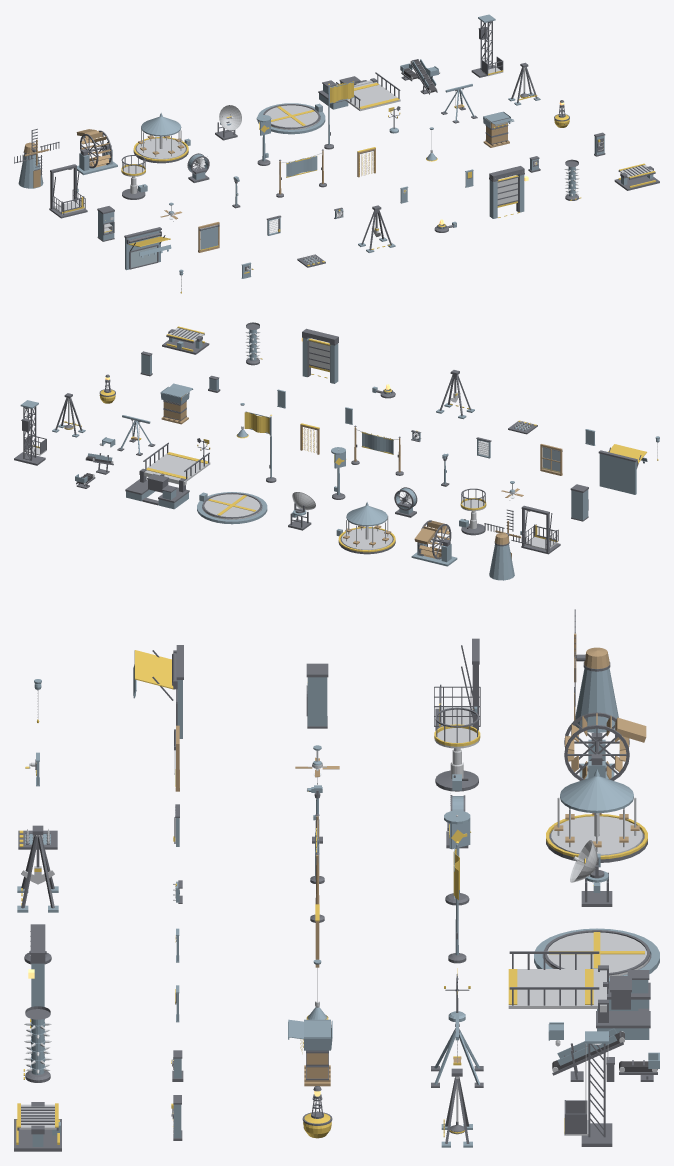
The model's file is animated-mechanisms-kit-fixtures-and-motion-yard-0fb9c9a4__24662.glb.
3 renders of one model, top to bottom at view 1: azimuth 30°, elevation 25°; view 2: azimuth 150°, elevation 25°; view 3: azimuth 270°, elevation 25°, orthographic. The views are drawn at different scales.
Visible parts, largest first — view 1: 002-carousel-platform/deck/steel, 004-turntable/deck/steel, 005-bascule-deck/leaf/steel, 024-awning-unfurl/0, 002-carousel-platform/deck/paint, 008-cargo-lift-with-gate/0, 037-falling-gate/0, 007-counterweight-platform/0, 000-windmill-sail/0, 004-turntable/0, 001-water-wheel/wheel/timber, 001-water-wheel/wheel/iron (+6 smaller); view 2: 024-awning-unfurl/0, 005-bascule-deck/leaf/steel, 004-turntable/deck/steel, 002-carousel-platform/deck/steel, 007-counterweight-platform/0, 000-windmill-sail/0, 005-bascule-deck/1, 002-carousel-platform/deck/paint, 004-turntable/0, 008-cargo-lift-with-gate/0, 037-falling-gate/0, 005-bascule-deck/0 (+10 smaller); view 3: 005-bascule-deck/leaf/steel, 002-carousel-platform/deck/steel, 004-turntable/deck/steel, 002-carousel-platform/deck/paint, 000-windmill-sail/0, 005-bascule-deck/1, 001-water-wheel/wheel/iron, 007-counterweight-platform/0, 024-awning-unfurl/awning/accent, 006-belt-conveyor-incline/5, 039-tilting-platform/0, 016-dumbwaiter/0 (+8 smaller).
Boxes of the visible parts, bbox=[...] form: 002-carousel-platform/deck/steel: bbox=[136, 125, 185, 159]; 004-turntable/deck/steel: bbox=[265, 105, 319, 129]; 005-bascule-deck/leaf/steel: bbox=[345, 79, 400, 111]; 024-awning-unfurl/0: bbox=[125, 230, 160, 270]; 002-carousel-platform/deck/paint: bbox=[141, 113, 181, 136]; 008-cargo-lift-with-gate/0: bbox=[49, 164, 87, 218]; 037-falling-gate/0: bbox=[489, 174, 524, 218]; 007-counterweight-platform/0: bbox=[471, 20, 496, 77]; 000-windmill-sail/0: bbox=[18, 154, 43, 188]; 004-turntable/0: bbox=[257, 103, 325, 134]; 001-water-wheel/wheel/timber: bbox=[81, 131, 110, 167]; 001-water-wheel/wheel/iron: bbox=[80, 130, 112, 168]; 024-awning-unfurl/0: bbox=[599, 453, 636, 494]; 005-bascule-deck/leaf/steel: bbox=[139, 453, 210, 485]; 004-turntable/deck/steel: bbox=[202, 494, 261, 519]; 002-carousel-platform/deck/steel: bbox=[341, 515, 392, 550]; 007-counterweight-platform/0: bbox=[14, 406, 45, 465]; 000-windmill-sail/0: bbox=[489, 544, 514, 580]; 005-bascule-deck/1: bbox=[125, 468, 189, 505]; 002-carousel-platform/deck/paint: bbox=[346, 502, 387, 526]; 004-turntable/0: bbox=[197, 492, 267, 524]; 008-cargo-lift-with-gate/0: bbox=[521, 505, 560, 554]; 037-falling-gate/0: bbox=[302, 338, 338, 383]; 005-bascule-deck/0: bbox=[126, 489, 188, 509]; 005-bascule-deck/leaf/steel: bbox=[508, 969, 606, 1012]; 002-carousel-platform/deck/steel: bbox=[551, 797, 642, 855]; 004-turntable/deck/steel: bbox=[545, 932, 649, 977]; 002-carousel-platform/deck/paint: bbox=[560, 769, 633, 813]; 000-windmill-sail/0: bbox=[575, 668, 618, 732]; 005-bascule-deck/1: bbox=[596, 965, 650, 1028]; 001-water-wheel/wheel/iron: bbox=[564, 712, 629, 780]; 007-counterweight-platform/0: bbox=[581, 1043, 612, 1146]; 024-awning-unfurl/awning/accent: bbox=[134, 650, 174, 689]; 006-belt-conveyor-incline/5: bbox=[548, 1022, 659, 1068]; 039-tilting-platform/0: bbox=[14, 1102, 61, 1151]; 016-dumbwaiter/0: bbox=[307, 677, 327, 726].
Size of the model in its own units: 48.63 by 5.98 by 29.58.
